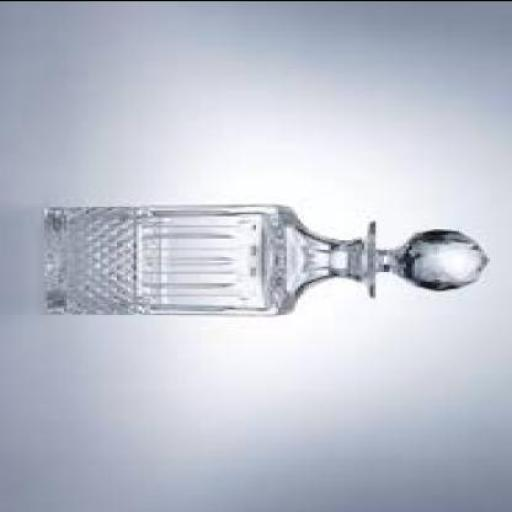glass: (44, 200, 492, 312)
